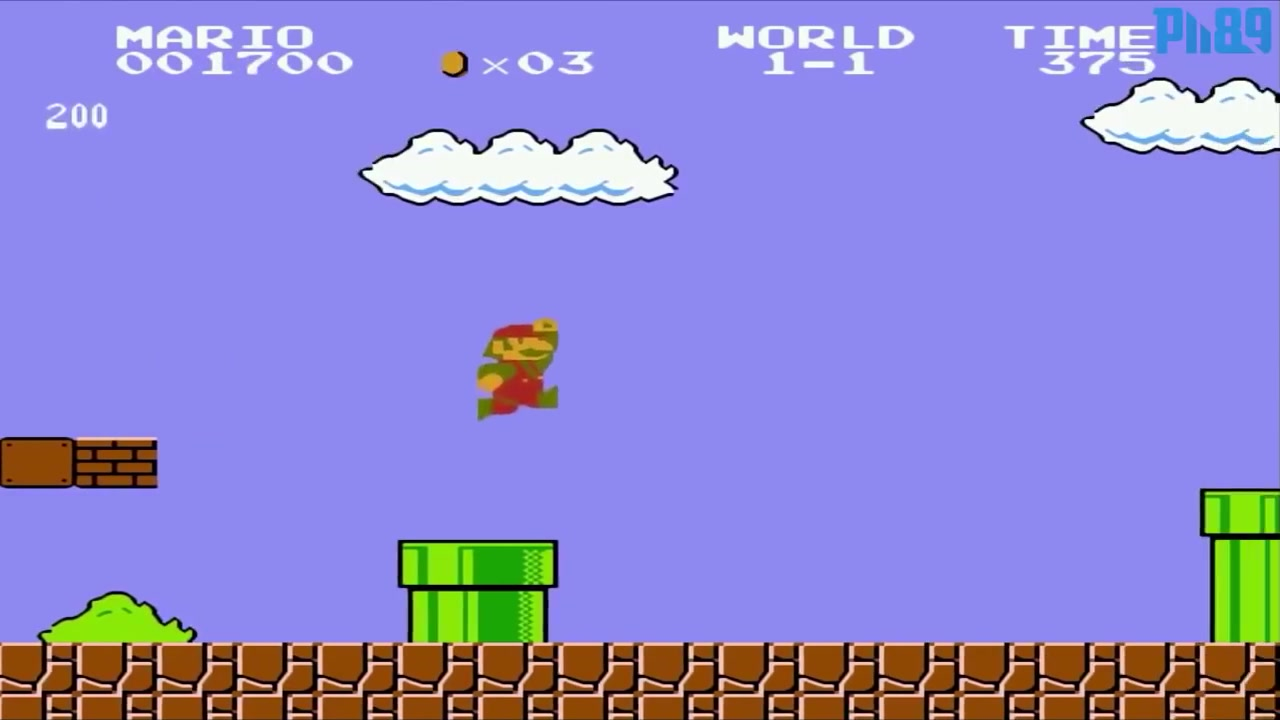mario: (467, 316, 566, 425)
